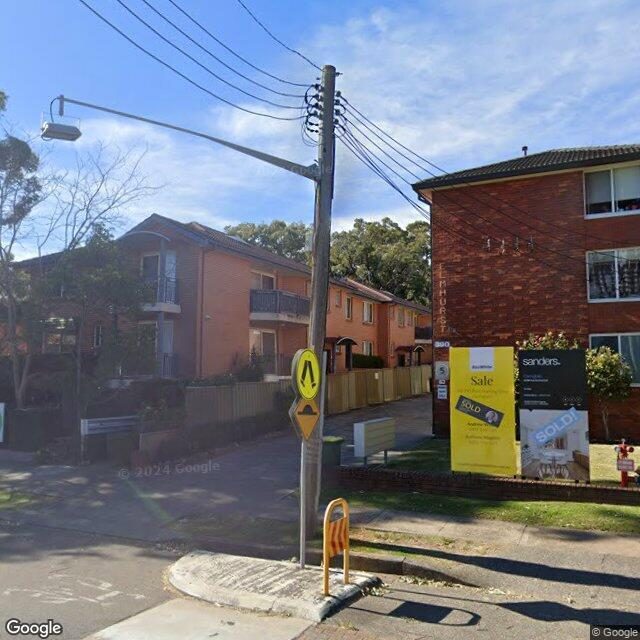streetlight: (40, 94, 321, 182)
timber-pole: (305, 64, 335, 540)
